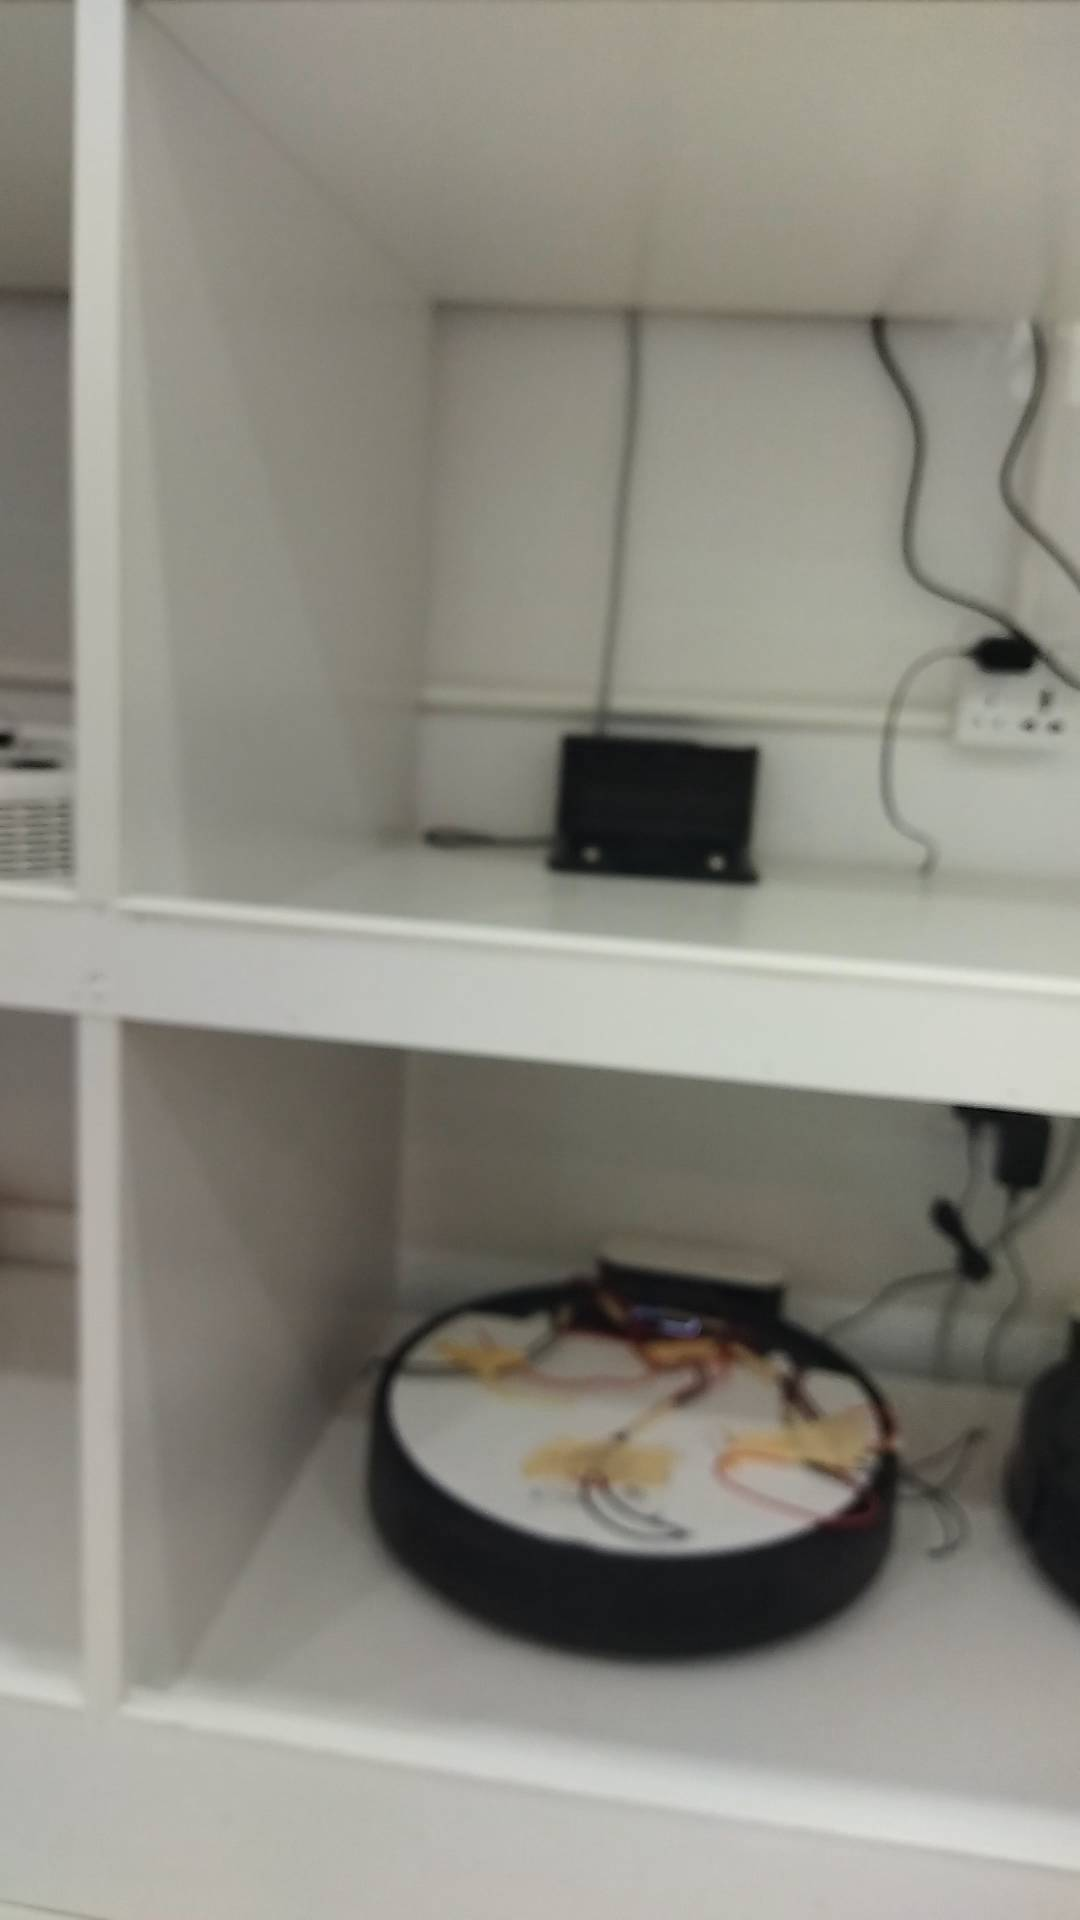recharge seat: (549, 729, 764, 886), (591, 1226, 798, 1304)
